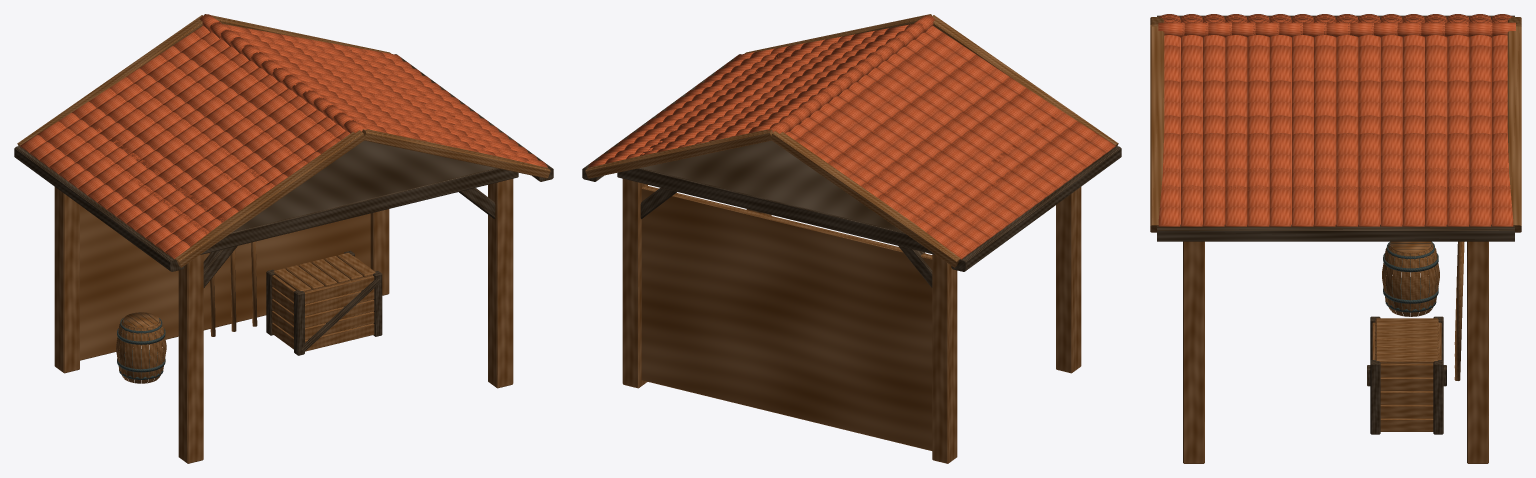
The model's file is farm_shed.glb.
3 renders of one model, left to right at view 1: azimuth 30°, elevation 25°; view 2: azimuth 150°, elevation 25°; view 3: azimuth 270°, elevation 25°, orthographic. The views are drawn at different scales.
Parts seen in each view (by area): view 1: farm_shed.002; view 2: farm_shed.002; view 3: farm_shed.002.
Boxes of the visible parts, x1,y1,x2,y2 form: farm_shed.002: (14, 14, 553, 463); farm_shed.002: (582, 14, 1121, 463); farm_shed.002: (1150, 14, 1521, 463).
Bounding box in the file's own units: 6.44 × 4.88 × 4.71.
1 material, 1 textured.
